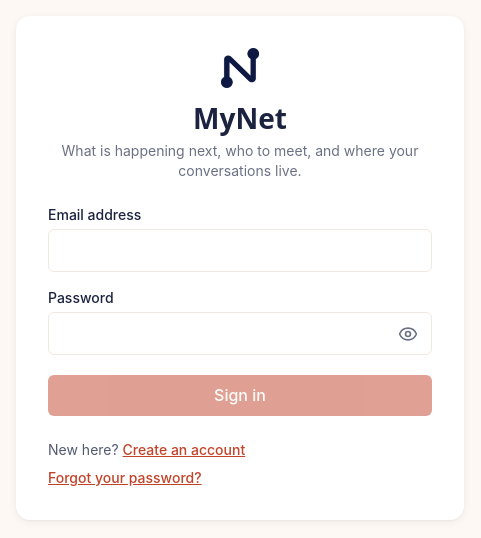
Test: SignInScreen › disables submit until both fields are filled, rather than erroring after submission
expect the button "Sign in" is disabled: met, box top-left (48, 375), bottom-right (432, 416)
Type "ada@example.com" into the field labelled "Email address" at (240, 251), box top-left (48, 230), bottom-right (432, 272)
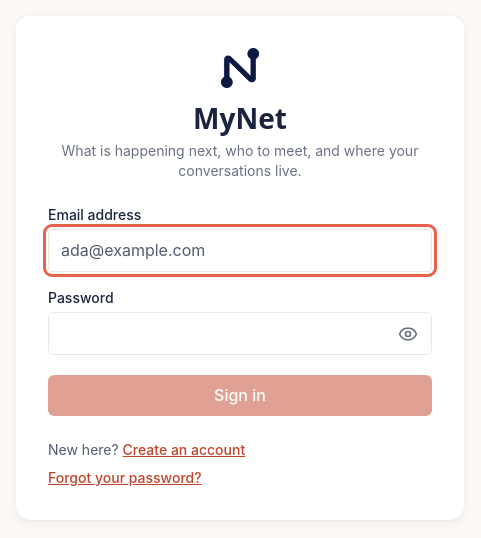
expect the button "Sign in" is disabled: met, box top-left (48, 375), bottom-right (432, 416)
Type "correct-horse-battery-staple" into the password field labelled "Password" at (240, 334), box top-left (48, 312), bottom-right (432, 355)
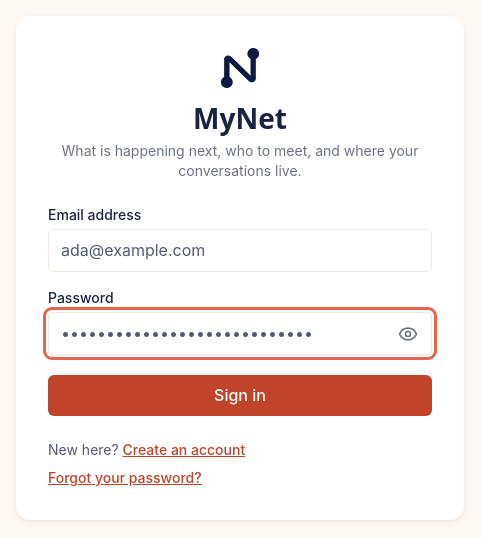
expect the button "Sign in" is enabled: met, box top-left (48, 375), bottom-right (432, 416)
